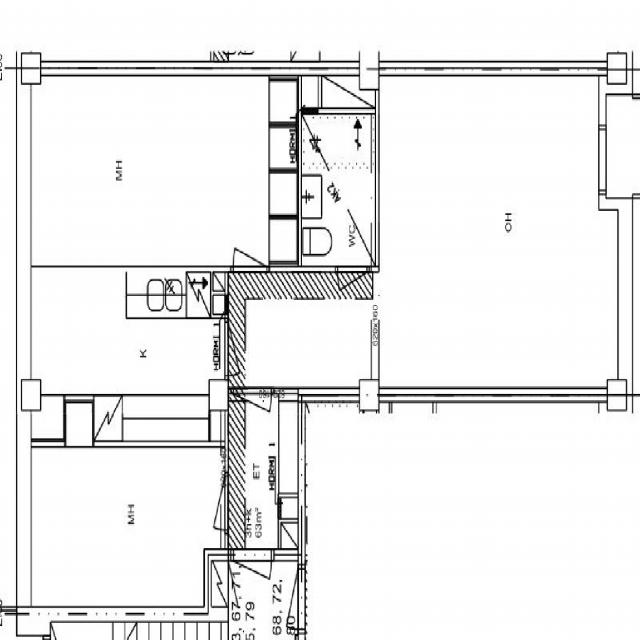door: (233, 548, 271, 622), (232, 388, 271, 454), (232, 212, 266, 272), (225, 322, 262, 375), (192, 476, 228, 528), (337, 266, 369, 323)
